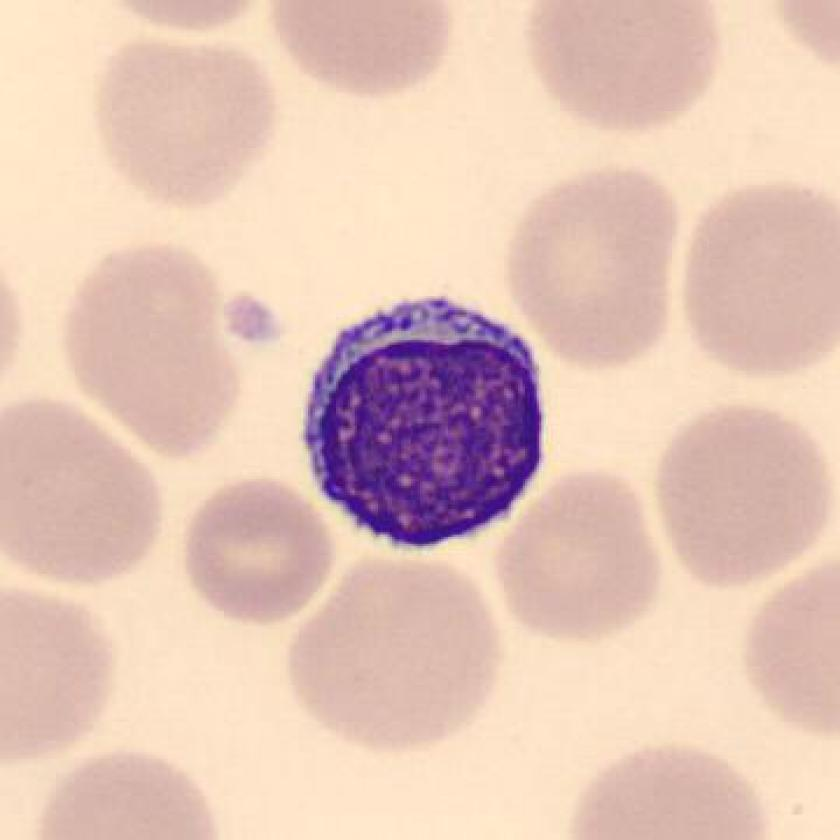lymphocyte: (290, 283, 561, 568)
